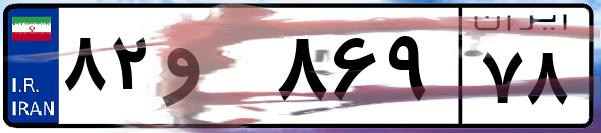2: (110, 28, 158, 98)
6: (330, 28, 385, 110)
7: (475, 38, 525, 113)
8: (270, 28, 330, 110), (57, 26, 110, 100), (525, 38, 570, 115)
9: (385, 28, 445, 110)
و: (158, 20, 270, 120)
